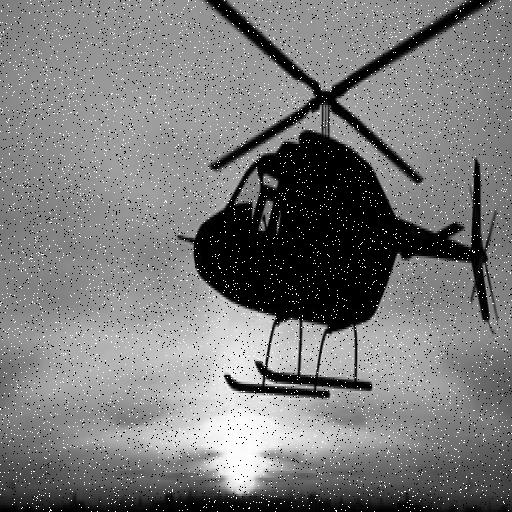helicopter: (136, 1, 512, 399)
